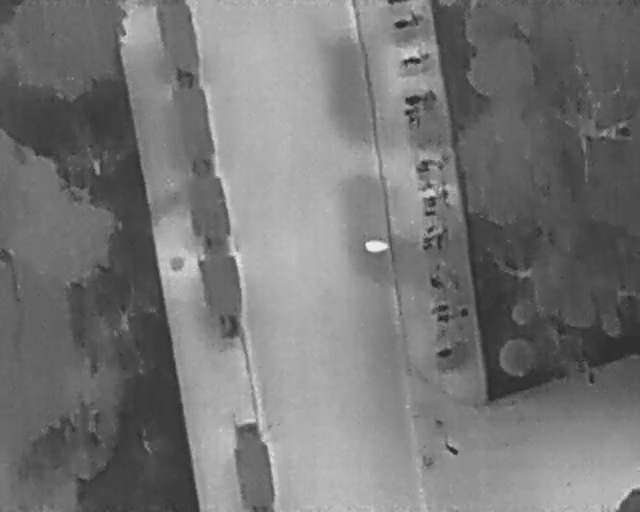Bicycle: (401, 86, 439, 109), (390, 9, 426, 32), (420, 228, 449, 254), (399, 48, 433, 70), (433, 307, 471, 325), (413, 155, 446, 175), (420, 191, 450, 210), (402, 105, 426, 128), (432, 343, 459, 363), (427, 300, 455, 315), (416, 179, 444, 194), (428, 273, 443, 290), (422, 208, 439, 219)
